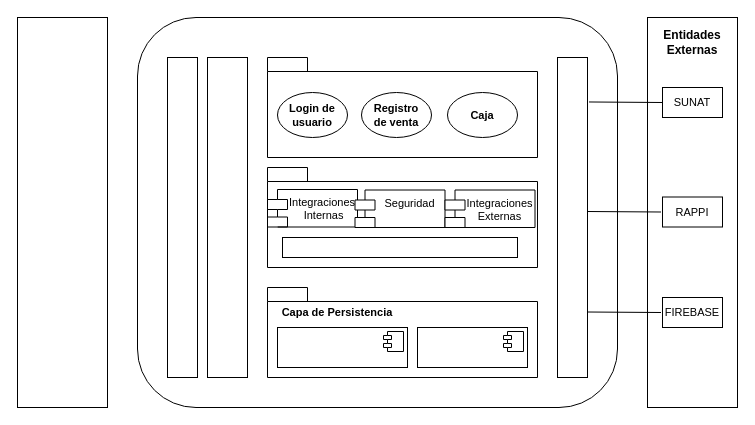
Some shapes in this 755 by 425 pixel diagram are drawn without their labels. Each missing label, with the box of its shape:
Aplicaciones Internas: (16, 16, 108, 408)
Base de datos Central: (276, 326, 408, 368)
NAS: (416, 326, 528, 368)
Servidor de Aplicaciones: (282, 236, 518, 258)
